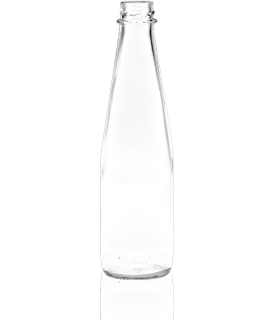glass_bottle: (98, 1, 177, 285)
